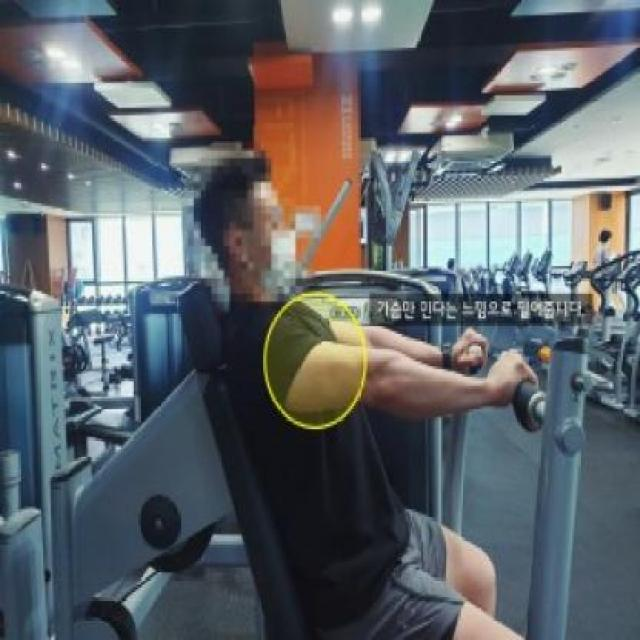Chest Press machine: (0, 151, 609, 640)
